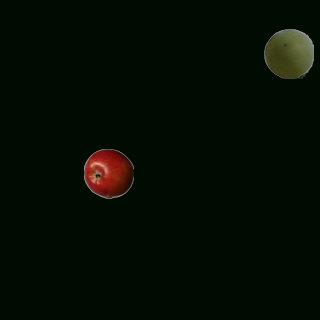Apple Braeburn: (83, 148, 133, 198)
Grape White 4: (263, 28, 313, 78)
